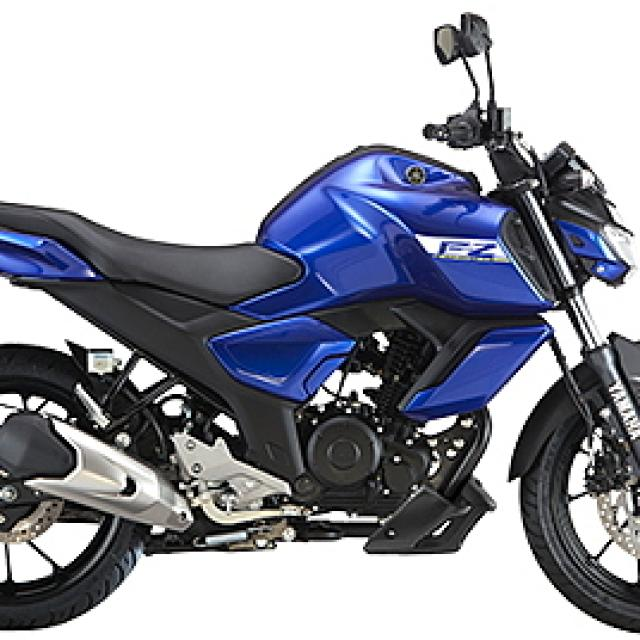Bike: (10, 8, 640, 634)
